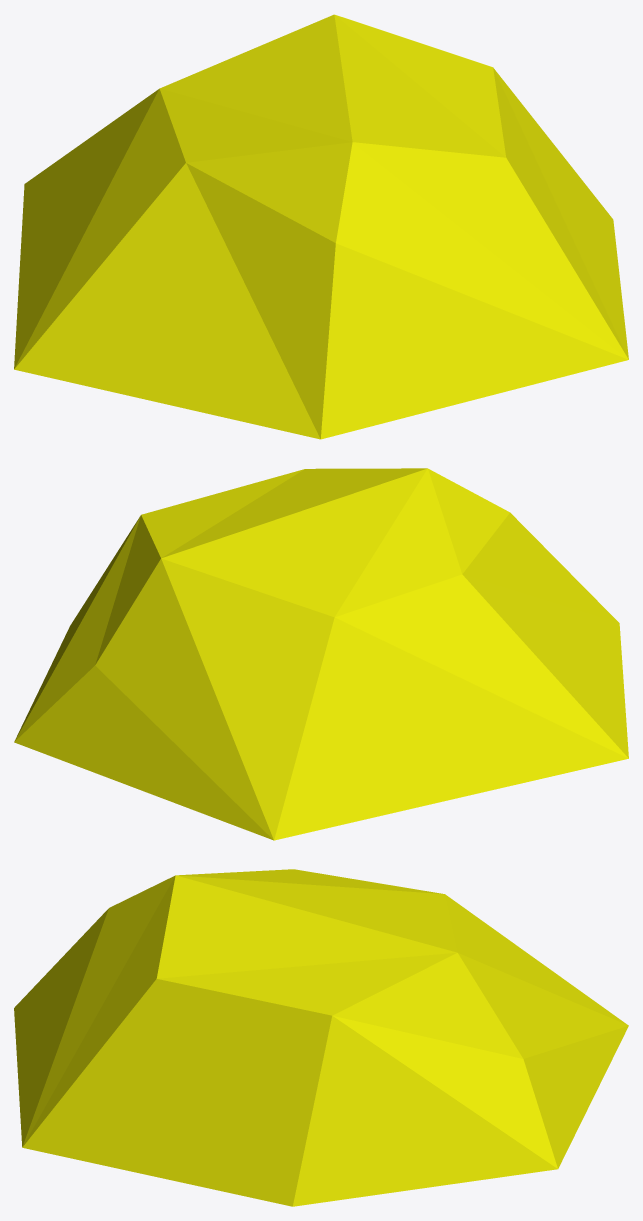
File: SM_Generic_Small_Rocks_05.glb
The picture shows the model from 3 angles, top to bottom: view 1: azimuth 30°, elevation 25°; view 2: azimuth 150°, elevation 25°; view 3: azimuth 270°, elevation 25°; orthographic projection. The views are drawn at different scales.
Visible parts, largest first — view 1: SM_Generic_Small_Rocks_05; view 2: SM_Generic_Small_Rocks_05; view 3: SM_Generic_Small_Rocks_05.
Part boxes in pixels (x1,y1,x2,y2): SM_Generic_Small_Rocks_05: [14, 14, 628, 439]; SM_Generic_Small_Rocks_05: [14, 468, 628, 840]; SM_Generic_Small_Rocks_05: [14, 869, 628, 1206].
Bounding box in the file's own units: 0.2614 × 0.0843 × 0.2521.
1 material, 1 textured.
